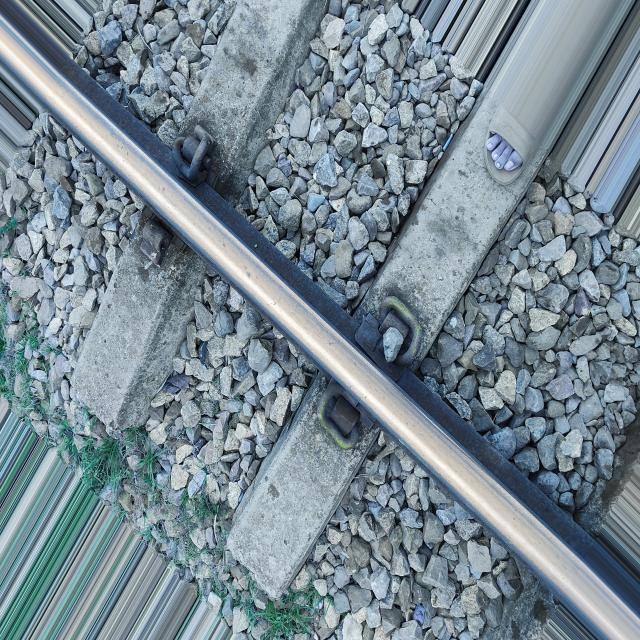Good Fasteners: (355, 296, 426, 372), (317, 380, 374, 449), (173, 126, 215, 180)
Missing Fastener: (130, 219, 206, 320)
